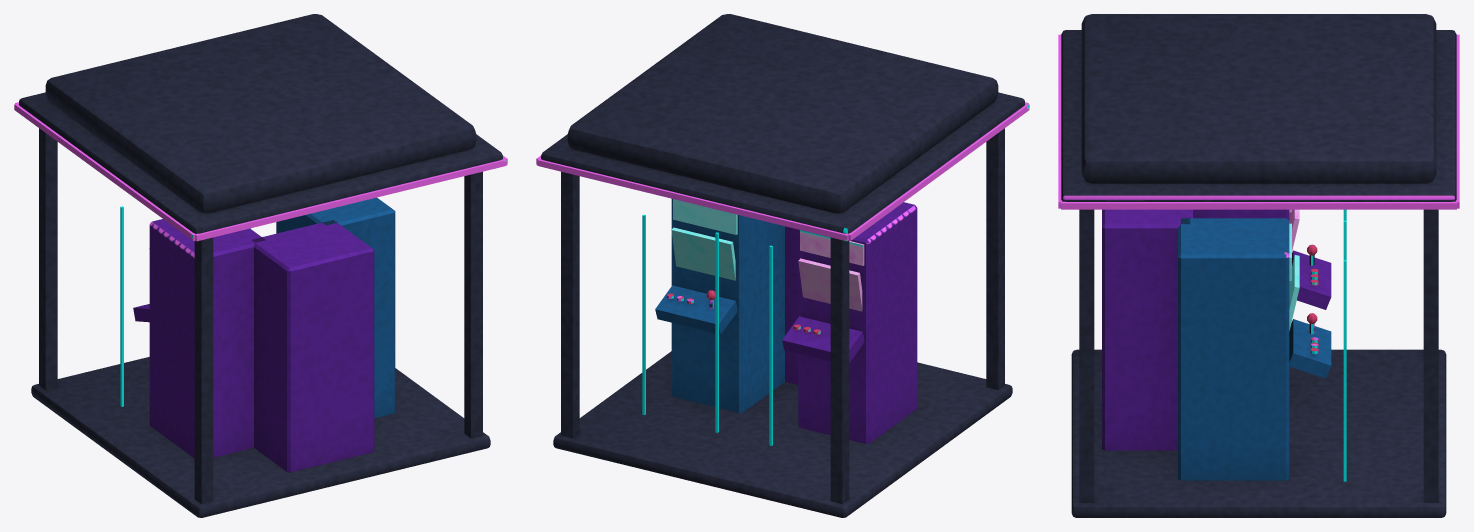
The model's file is arcade_kiosk.fbx.
3 views of the same model, side by side, from view 1: azimuth 30°, elevation 25°; view 2: azimuth 150°, elevation 25°; view 3: azimuth 270°, elevation 25° (orthographic). The views are drawn at different scales.
Parts seen in each view (by area): view 1: arcade_kiosk, arcade_kiosk_glow, arcade_kiosk_glow2; view 2: arcade_kiosk, arcade_kiosk_glow, arcade_kiosk_glow2; view 3: arcade_kiosk, arcade_kiosk_glow, arcade_kiosk_glow2.
Boxes of the visible parts, <box> form: arcade_kiosk: <box>19,14,502,517</box>; arcade_kiosk_glow: <box>14,102,507,241</box>; arcade_kiosk_glow2: <box>120,206,250,406</box>; arcade_kiosk: <box>541,14,1024,517</box>; arcade_kiosk_glow: <box>536,102,1029,241</box>; arcade_kiosk_glow2: <box>642,214,772,445</box>; arcade_kiosk: <box>1061,14,1456,517</box>; arcade_kiosk_glow: <box>1058,33,1459,209</box>; arcade_kiosk_glow2: <box>1343,209,1346,481</box>.
Size of the model in its own units: 792 by 775 by 792.
Materials: 1 (1 with a texture image).
